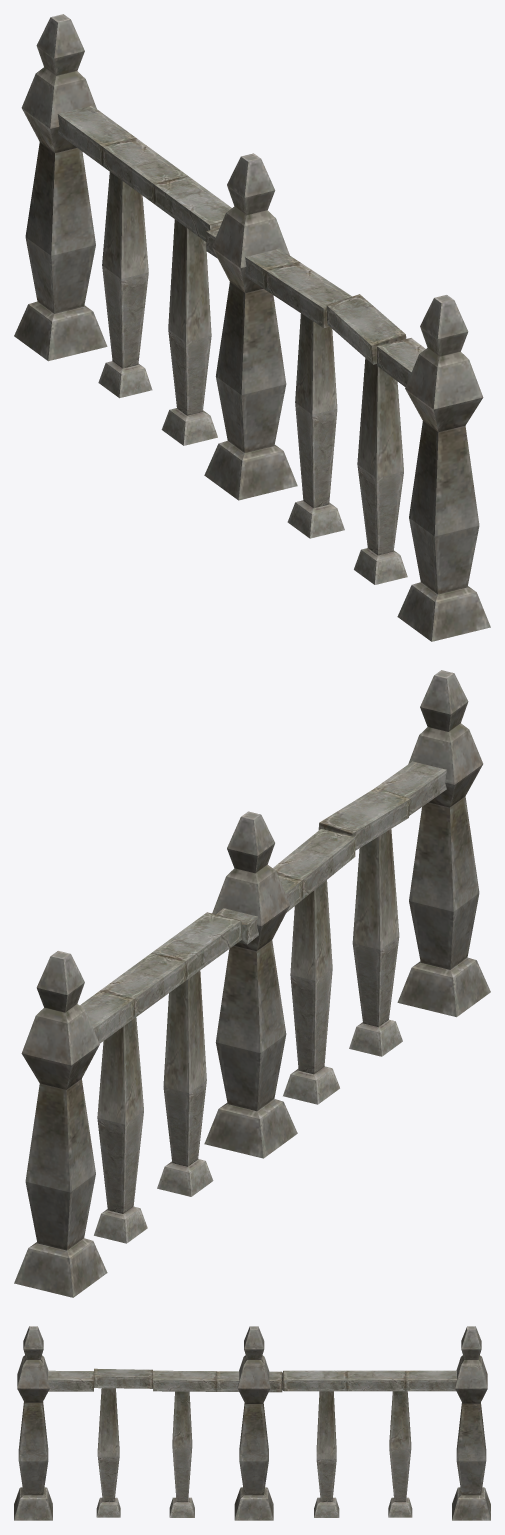
Rendered from bg_lut_lucastle_arenafence01a_sm_bjh.FBX.
The picture shows the model from 3 angles, top to bottom: view 1: azimuth 30°, elevation 25°; view 2: azimuth 150°, elevation 25°; view 3: azimuth 270°, elevation 25°; orthographic projection. The views are drawn at different scales.
Visible parts, largest first — view 1: bg_lut_lucastle_arenafence01a_sm_bjh; view 2: bg_lut_lucastle_arenafence01a_sm_bjh; view 3: bg_lut_lucastle_arenafence01a_sm_bjh.
Part boxes in pixels (left/top/right/bottom): bg_lut_lucastle_arenafence01a_sm_bjh: left=14, top=14, right=490, bottom=641; bg_lut_lucastle_arenafence01a_sm_bjh: left=14, top=670, right=490, bottom=1297; bg_lut_lucastle_arenafence01a_sm_bjh: left=14, top=1326, right=490, bottom=1520.
Bounding box in the file's own units: 25.95 × 135 × 316.
